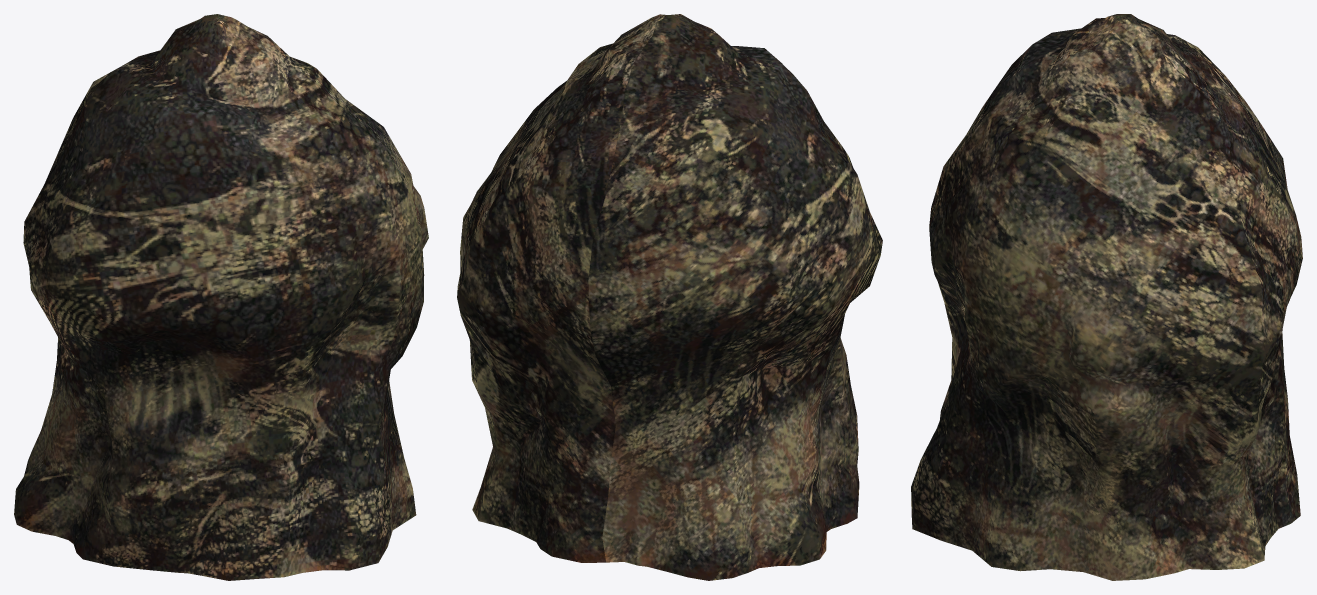
Rendered from ghoul_fetish_base_02.DAE.
The picture shows the model from 3 angles, left to right: view 1: azimuth 30°, elevation 25°; view 2: azimuth 150°, elevation 25°; view 3: azimuth 270°, elevation 25°; orthographic projection.
Visible parts, largest first — view 1: ghoul_fetish_base_02; view 2: ghoul_fetish_base_02; view 3: ghoul_fetish_base_02.
Boxes of the visible parts, x1,y1,x2,y2 form: ghoul_fetish_base_02: (14,14,428,580); ghoul_fetish_base_02: (457,14,882,580); ghoul_fetish_base_02: (911,14,1302,580).
Size of the model in its own units: 0.8465 by 1.04 by 0.7582.
